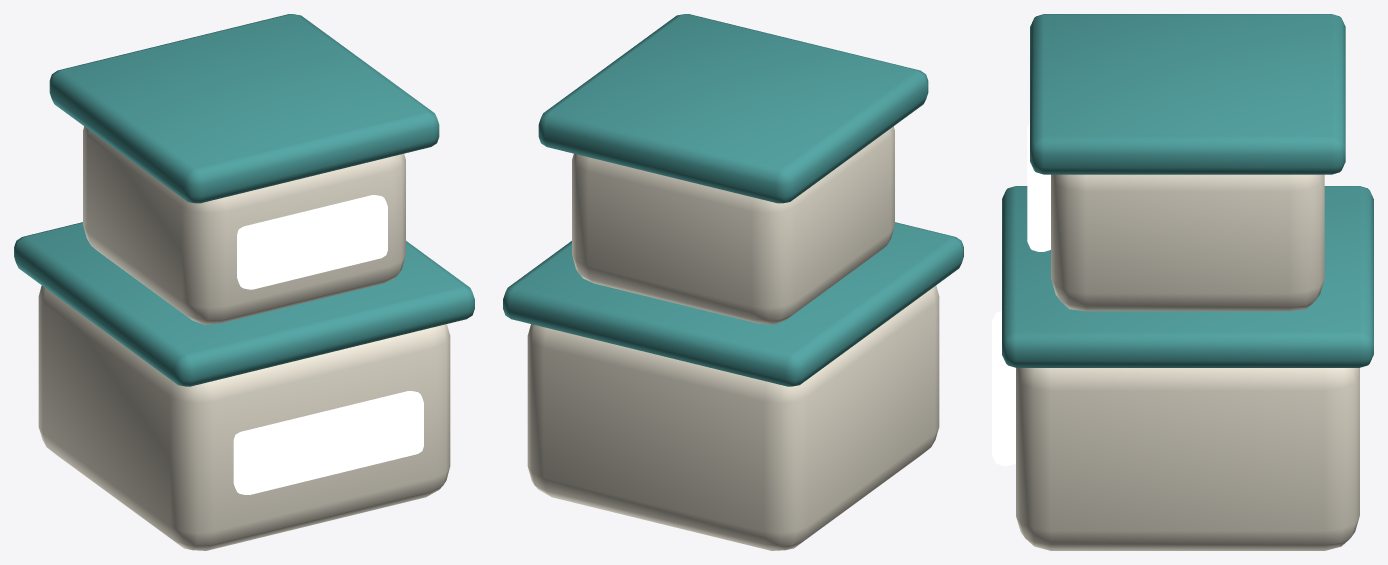
File: reward-content-level-two.glb
3 renders of one model, left to right at view 1: azimuth 30°, elevation 25°; view 2: azimuth 150°, elevation 25°; view 3: azimuth 270°, elevation 25°, orthographic. The views are drawn at different scales.
Parts seen in each view (by area): view 1: upgrade storey one, upgrade roof, upgrade storey two, upgrade floor band, upgrade glazing 1.0, upgrade glazing 1.32; view 2: upgrade storey one, upgrade roof, upgrade storey two, upgrade floor band; view 3: upgrade storey one, upgrade roof, upgrade storey two, upgrade floor band, upgrade glazing 1.0, upgrade glazing 1.32.
Boxes of the visible parts, box(x1,y1,x2,y2) form: upgrade storey one: box(38, 285, 450, 550); upgrade roof: box(49, 14, 439, 203); upgrade storey two: box(83, 126, 405, 324); upgrade floor band: box(14, 222, 474, 386); upgrade glazing 1.0: box(233, 391, 423, 494); upgrade glazing 1.32: box(237, 195, 387, 289); upgrade storey one: box(527, 285, 939, 550); upgrade roof: box(538, 14, 928, 203); upgrade storey two: box(572, 126, 894, 324); upgrade floor band: box(503, 222, 963, 386); upgrade storey one: box(1016, 368, 1359, 550); upgrade roof: box(1030, 14, 1345, 174); upgrade storey two: box(1051, 174, 1324, 311); upgrade floor band: box(1002, 186, 1373, 367); upgrade glazing 1.0: box(992, 311, 1015, 465); upgrade glazing 1.32: box(1027, 122, 1050, 251).
Size of the model in its own units: 0.53 by 0.652 by 0.544.
